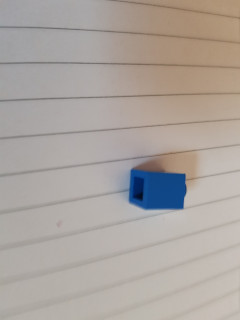1x1 blue: (126, 167, 189, 213)
